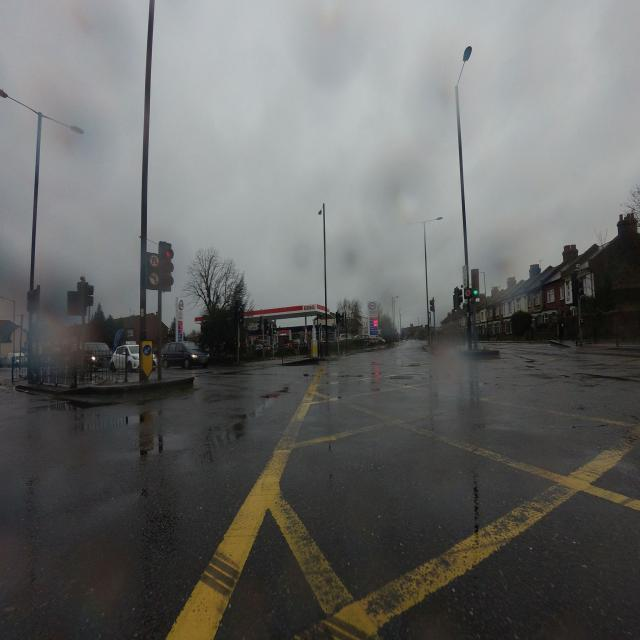car: (160, 340, 210, 370), (110, 343, 141, 372), (82, 341, 112, 369)
